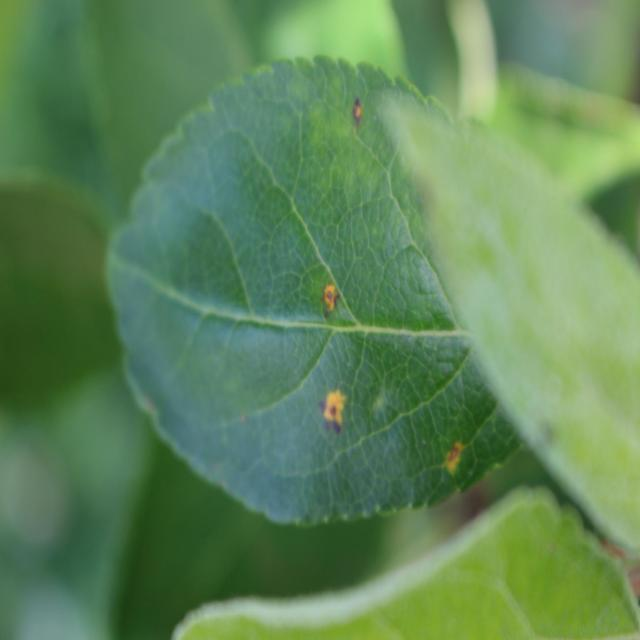Rust: (313, 277, 351, 335), (438, 432, 473, 486), (316, 389, 352, 441), (342, 89, 374, 134)
